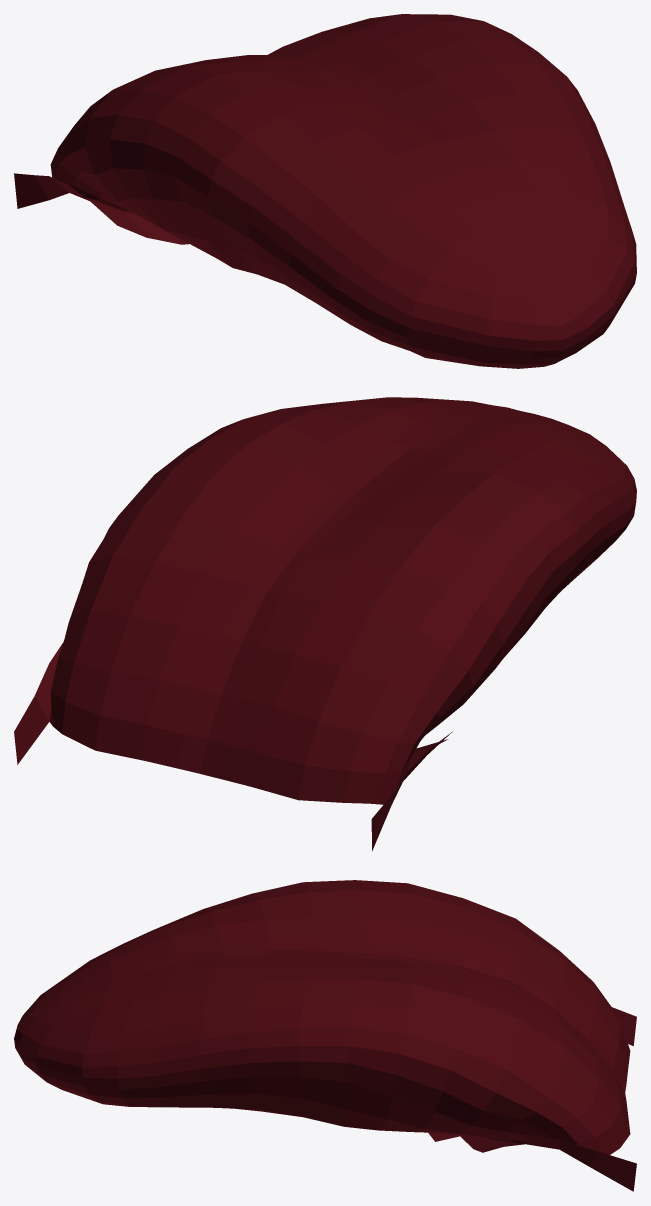
File: seperated_tongue.obj
3 renders of one model, top to bottom at view 1: azimuth 30°, elevation 25°; view 2: azimuth 150°, elevation 25°; view 3: azimuth 270°, elevation 25°, orthographic. The views are drawn at different scales.
Parts seen in each view (by area): view 1: ICTFaceModel.012; view 2: ICTFaceModel.012; view 3: ICTFaceModel.012.
Part boxes in pixels (box(x1,y1,x2,y2)): ICTFaceModel.012: box(14, 14, 636, 368); ICTFaceModel.012: box(14, 397, 636, 851); ICTFaceModel.012: box(14, 880, 636, 1191).
Bounding box in the file's own units: 3.97 × 2.13 × 6.53.
